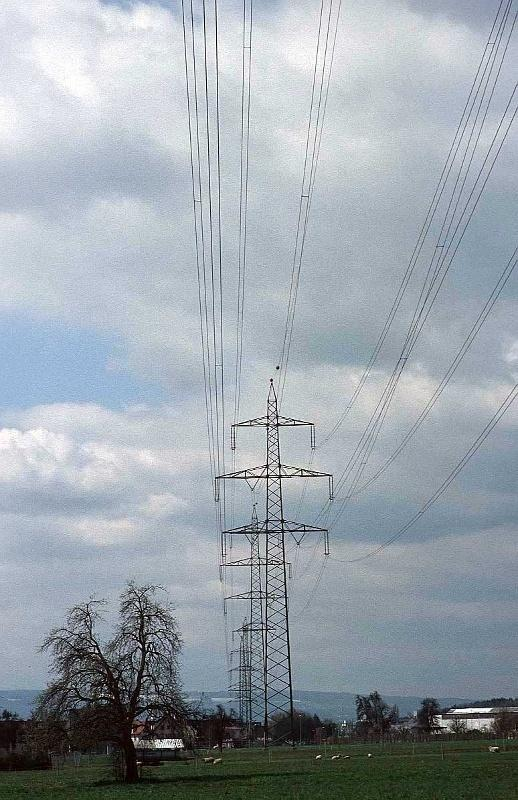power_tower: (227, 382, 329, 742)
